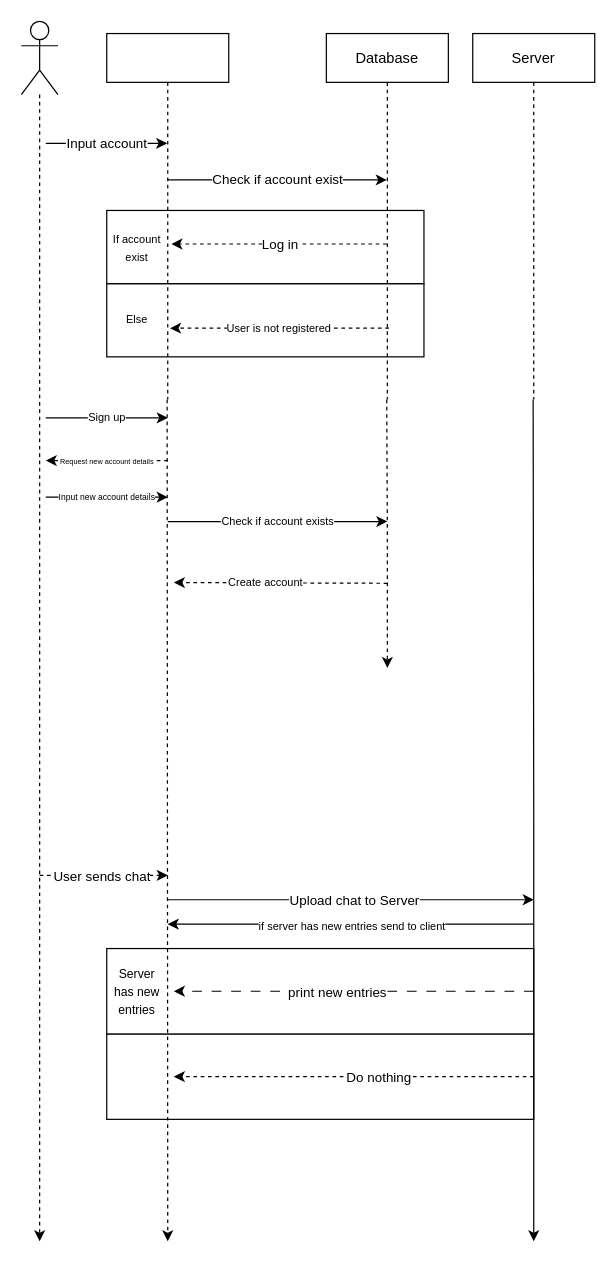
The diagram is 616 pixels wide and 1272 high, and some of its shapes have lost their labels. Here are the shapes that lost their labels. From the top down, the box of each, then its label:
(106, 32, 229, 400): Bablechat
(106, 1033, 534, 1119): Server has no new entries
